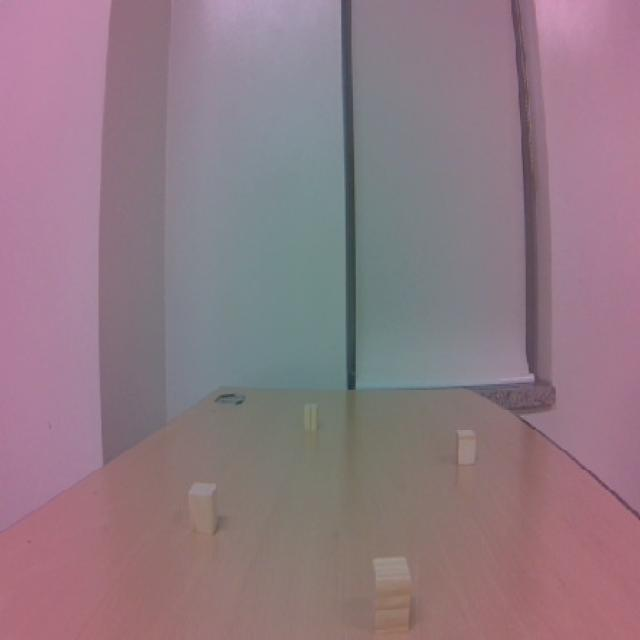obstacle: (361, 549, 422, 640), (182, 471, 228, 546), (448, 425, 486, 476)
